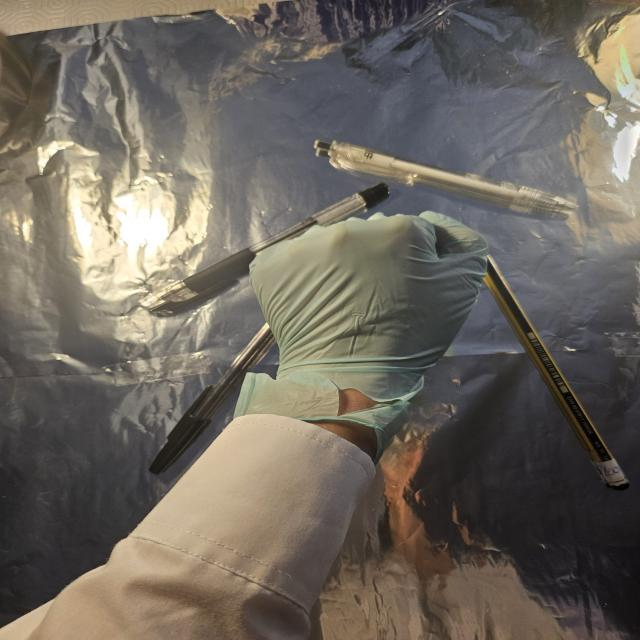gloves_damaged: (234, 208, 492, 462)
